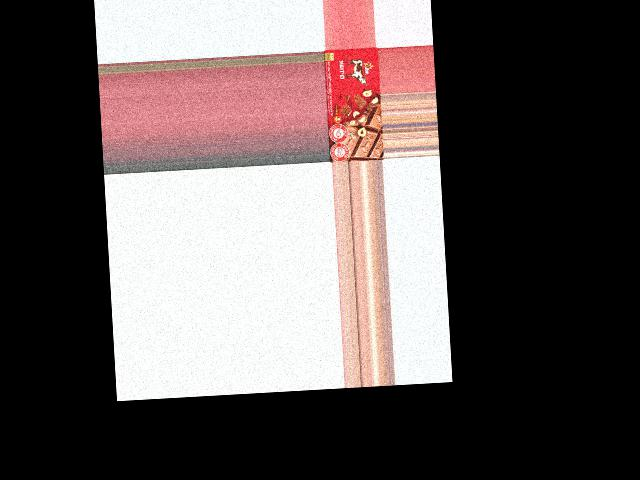chocolate: (324, 46, 383, 161)
